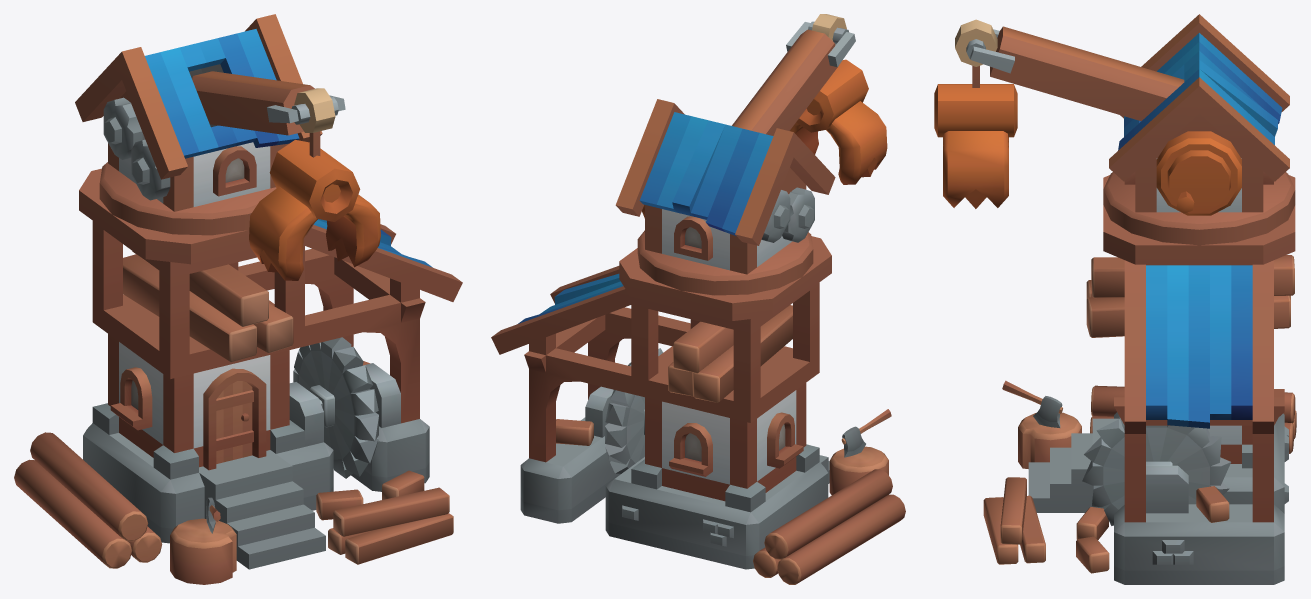
File: kay-serraria.gltf
The picture shows the model from 3 angles, left to right: view 1: azimuth 30°, elevation 25°; view 2: azimuth 150°, elevation 25°; view 3: azimuth 270°, elevation 25°; orthographic projection. The views are drawn at different scales.
Parts seen in each view (by area): view 1: building_lumbermill_blue; view 2: building_lumbermill_blue; view 3: building_lumbermill_blue.
Boxes of the visible parts, x1=… form: building_lumbermill_blue: x1=14, y1=14, x2=462, y2=584; building_lumbermill_blue: x1=491, y1=14, x2=905, y2=584; building_lumbermill_blue: x1=934, y1=14, x2=1296, y2=584.
Bounding box in the file's own units: 6.83 × 8.54 × 5.95.
Materials: 1 (1 with a texture image).
